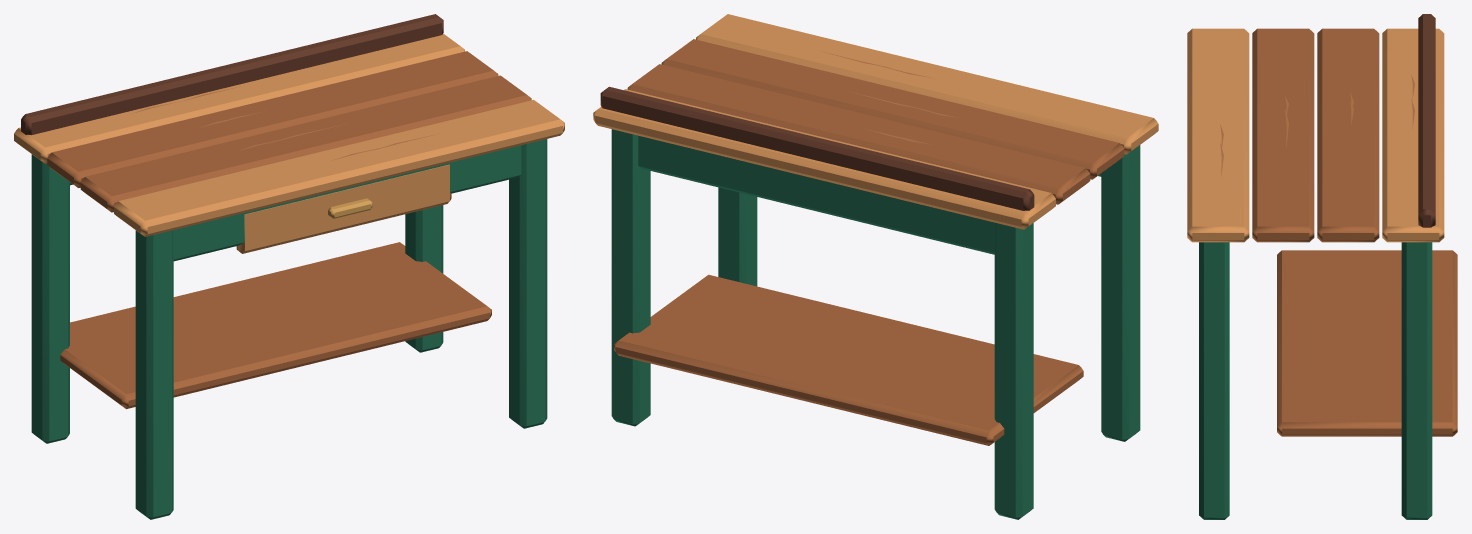
The model's file is rolling_table.glb.
The picture shows the model from 3 angles, left to right: view 1: azimuth 30°, elevation 25°; view 2: azimuth 150°, elevation 25°; view 3: azimuth 270°, elevation 25°; orthographic projection. The views are drawn at different scales.
Parts seen in each view (by area): view 1: RollingTable; view 2: RollingTable; view 3: RollingTable.
Part boxes in pixels (x1,y1,x2,y2): RollingTable: (14,14,564,519); RollingTable: (593,14,1158,519); RollingTable: (1187,14,1457,519).
Bounding box in the file's own units: 1.25 × 0.909 × 0.7075.
